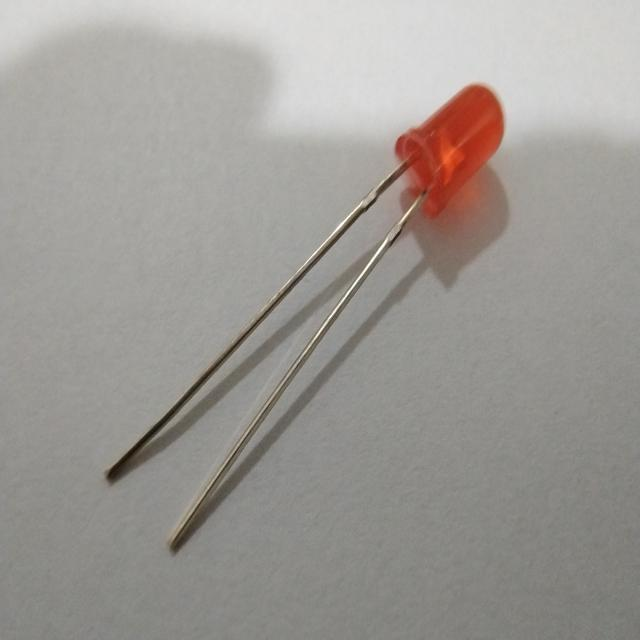red_led: (390, 78, 512, 221)
